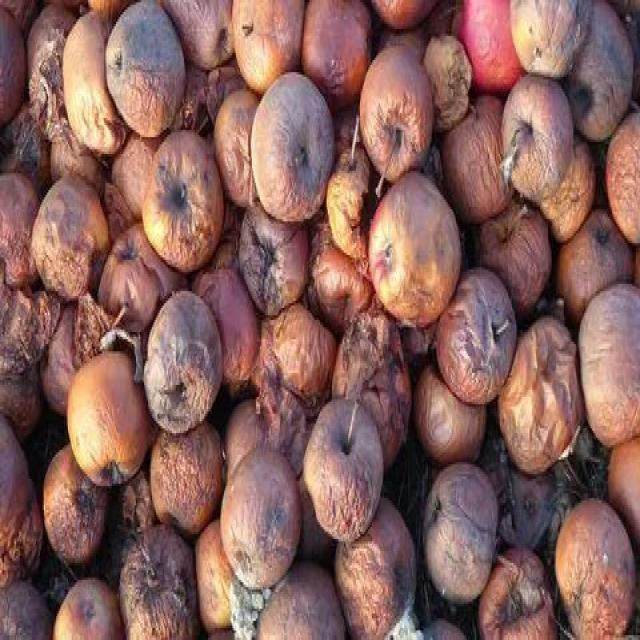Rotten: (293, 405, 385, 555), (247, 76, 335, 232), (96, 10, 202, 135), (508, 317, 582, 475), (210, 458, 300, 582), (138, 297, 225, 423), (438, 266, 510, 412), (413, 475, 502, 593), (20, 185, 112, 298), (353, 52, 432, 166), (65, 360, 140, 477), (121, 536, 198, 640)
